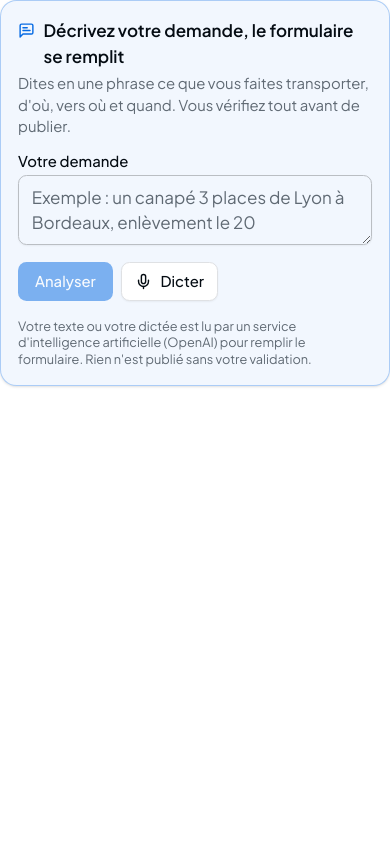
RequestAssistant › asks for the first thing missing, and reads the answer with what came before
Later steps or results of the test are not shown.
Replace the text in the text box with "un canapé à prendre à Lyon": (195, 210) [18, 175, 372, 245]
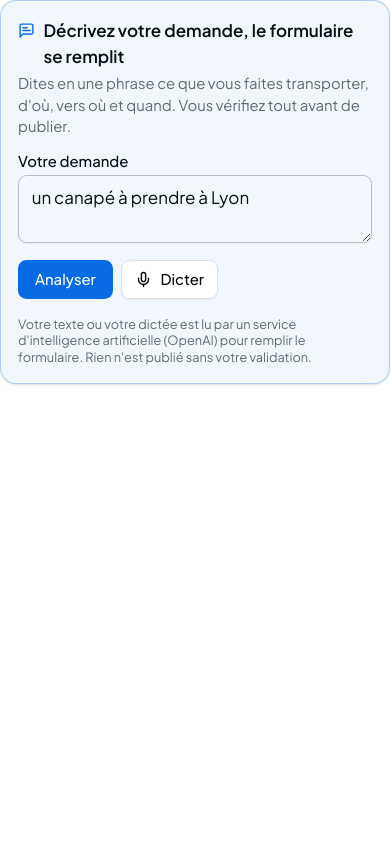
Click the button "Analyser": (65, 279) [18, 260, 113, 299]
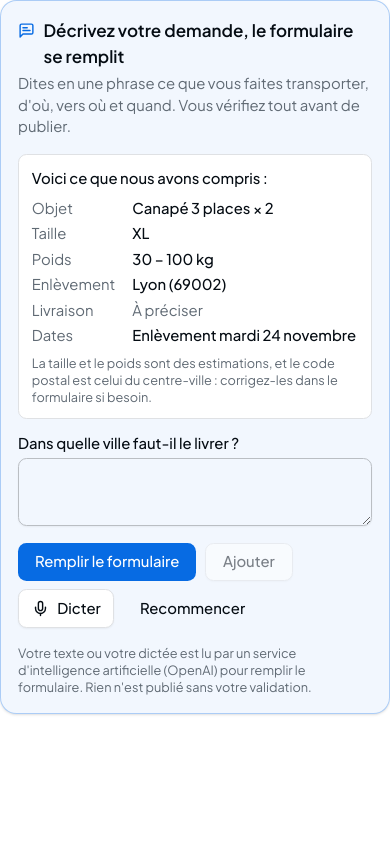
Check: the text box labelled "Dans quelle ville faut-il le livrer ?" is shown, box [18, 458, 372, 526]
Check: the text "À préciser" is shown, box [132, 300, 203, 318]
